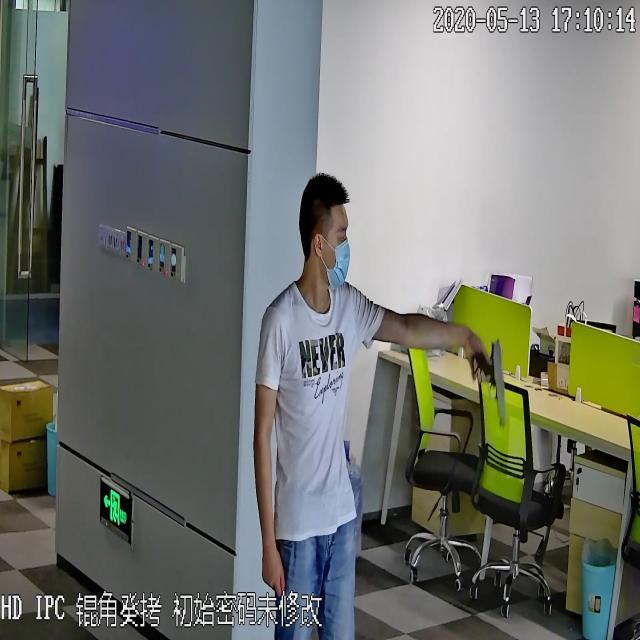gun: (471, 328, 509, 428)
